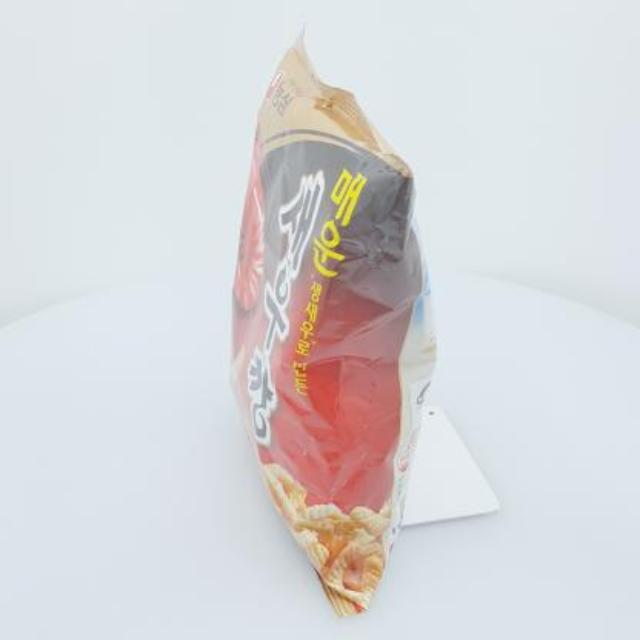snack_bag: (219, 14, 449, 624)
